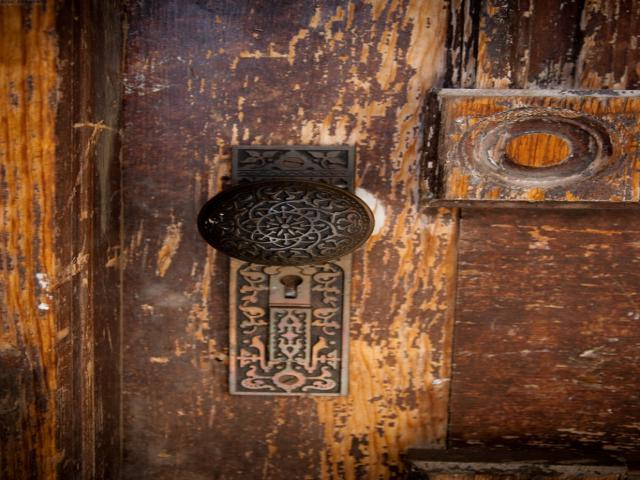Door-handle: (196, 145, 374, 397)
